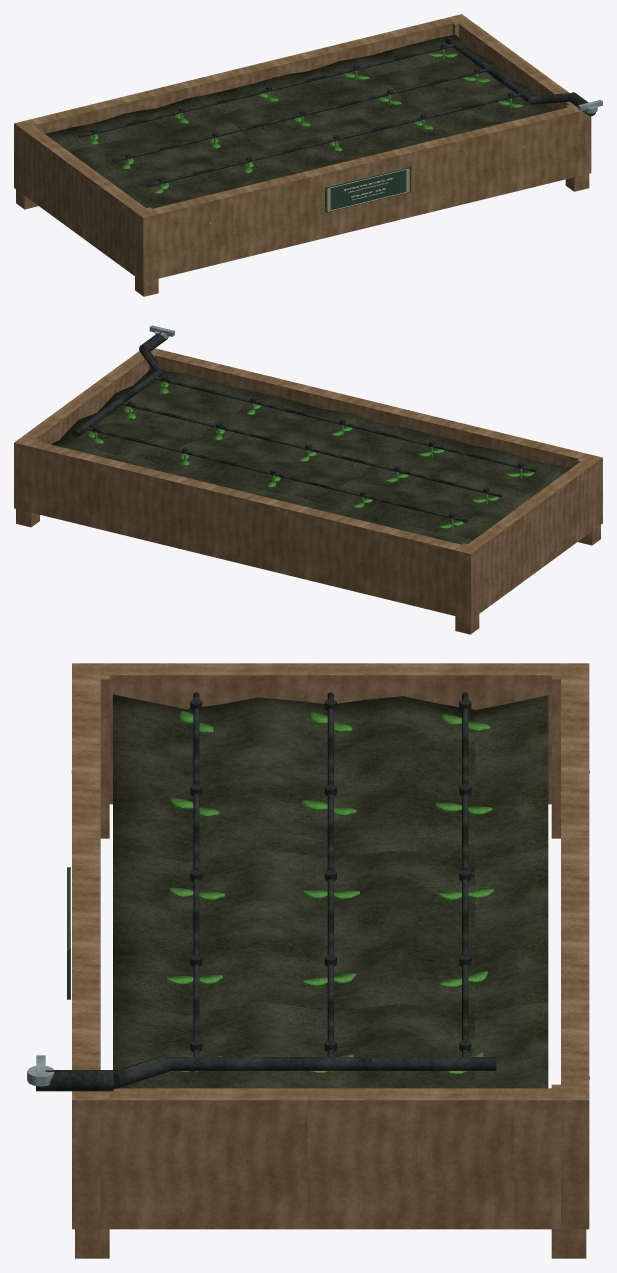
Rendered from PZ_Garden_Sprouting.glb.
3 renders of one model, top to bottom at view 1: azimuth 30°, elevation 25°; view 2: azimuth 150°, elevation 25°; view 3: azimuth 270°, elevation 25°, orthographic. The views are drawn at different scales.
Parts seen in each view (by area): view 1: SM_SPROUTING_SOIL_WET_NODE, SM_SPROUTING_FRAME_FRONT_NODE, SM_SPROUTING_FRAME_LEFT_NODE, SM_SPROUTING_FRAME_REAR_NODE, SM_SPROUTING_FRAME_RIGHT_NODE, SM_SPROUTING_ROOKFIELD_ALLOTMENT_TAG_NODE, SM_SPROUTING_DRIP_LINE_ROW_3_NODE, SM_SPROUTING_DRIP_LINE_ROW_2_NODE, SM_SPROUTING_DRIP_LINE_ROW_1_NODE, SM_SPROUTING_IRRIGATION_MANIFOLD_NODE, SM_SPROUTING_CORNER_POST_-0.961_-0.461_NODE; view 2: SM_SPROUTING_SOIL_WET_NODE, SM_SPROUTING_FRAME_REAR_NODE, SM_SPROUTING_FRAME_LEFT_NODE, SM_SPROUTING_FRAME_FRONT_NODE, SM_SPROUTING_FRAME_RIGHT_NODE, SM_SPROUTING_DRIP_LINE_ROW_2_NODE, SM_SPROUTING_DRIP_LINE_ROW_3_NODE, SM_SPROUTING_DRIP_LINE_ROW_1_NODE, SM_SPROUTING_IRRIGATION_MANIFOLD_NODE; view 3: SM_SPROUTING_SOIL_WET_NODE, SM_SPROUTING_FRAME_RIGHT_NODE, SM_SPROUTING_FRAME_LEFT_NODE, SM_SPROUTING_FRAME_REAR_NODE, SM_SPROUTING_FRAME_FRONT_NODE, SM_SPROUTING_IRRIGATION_MANIFOLD_NODE, SM_SPROUTING_DRIP_LINE_ROW_2_NODE, SM_SPROUTING_DRIP_LINE_ROW_1_NODE, SM_SPROUTING_DRIP_LINE_ROW_3_NODE, SM_SPROUTING_CORNER_POST_-0.961_0.461_NODE, SM_SPROUTING_CORNER_POST_-0.961_-0.461_NODE, SM_SPROUTING_CORNER_POST_0.961_0.461_NODE (+3 smaller).
Part boxes in pixels (x1,y1,x2,y2): SM_SPROUTING_SOIL_WET_NODE: (45, 35, 555, 208); SM_SPROUTING_FRAME_FRONT_NODE: (136, 106, 591, 282); SM_SPROUTING_FRAME_LEFT_NODE: (21, 125, 146, 276); SM_SPROUTING_FRAME_REAR_NODE: (14, 14, 468, 192); SM_SPROUTING_FRAME_RIGHT_NODE: (457, 19, 574, 110); SM_SPROUTING_ROOKFIELD_ALLOTMENT_TAG_NODE: (325, 166, 410, 212); SM_SPROUTING_DRIP_LINE_ROW_3_NODE: (79, 43, 453, 137); SM_SPROUTING_DRIP_LINE_ROW_2_NODE: (112, 68, 487, 162); SM_SPROUTING_DRIP_LINE_ROW_1_NODE: (146, 93, 521, 186); SM_SPROUTING_IRRIGATION_MANIFOLD_NODE: (445, 36, 530, 103); SM_SPROUTING_CORNER_POST_-0.961_-0.461_NODE: (135, 207, 158, 296); SM_SPROUTING_SOIL_WET_NODE: (51, 368, 571, 544); SM_SPROUTING_FRAME_REAR_NODE: (14, 437, 478, 619); SM_SPROUTING_FRAME_LEFT_NODE: (466, 461, 595, 614); SM_SPROUTING_FRAME_FRONT_NODE: (139, 348, 602, 528); SM_SPROUTING_FRAME_RIGHT_NODE: (21, 351, 148, 444); SM_SPROUTING_DRIP_LINE_ROW_2_NODE: (119, 401, 502, 497); SM_SPROUTING_DRIP_LINE_ROW_3_NODE: (85, 426, 467, 522); SM_SPROUTING_DRIP_LINE_ROW_1_NODE: (154, 376, 536, 472); SM_SPROUTING_IRRIGATION_MANIFOLD_NODE: (72, 369, 162, 437); SM_SPROUTING_SOIL_WET_NODE: (113, 694, 548, 1088); SM_SPROUTING_FRAME_RIGHT_NODE: (100, 1088, 560, 1229); SM_SPROUTING_FRAME_LEFT_NODE: (100, 663, 560, 804); SM_SPROUTING_FRAME_REAR_NODE: (561, 663, 589, 1229); SM_SPROUTING_FRAME_FRONT_NODE: (72, 663, 100, 1229); SM_SPROUTING_IRRIGATION_MANIFOLD_NODE: (168, 1057, 496, 1070); SM_SPROUTING_DRIP_LINE_ROW_2_NODE: (327, 692, 333, 1056); SM_SPROUTING_DRIP_LINE_ROW_1_NODE: (193, 692, 199, 1056); SM_SPROUTING_DRIP_LINE_ROW_3_NODE: (462, 692, 468, 1056); SM_SPROUTING_CORNER_POST_-0.961_0.461_NODE: (551, 665, 584, 838); SM_SPROUTING_CORNER_POST_-0.961_-0.461_NODE: (76, 665, 109, 838); SM_SPROUTING_CORNER_POST_0.961_0.461_NODE: (551, 1084, 586, 1258).
Bounding box in the file's own units: 2.01 × 0.396 × 1.09.
Materials: 6 (6 with a texture image).
